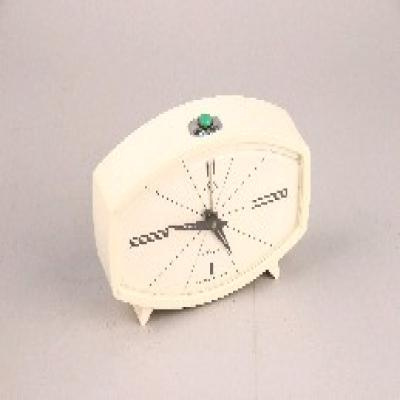technique: (91, 95, 312, 326)
